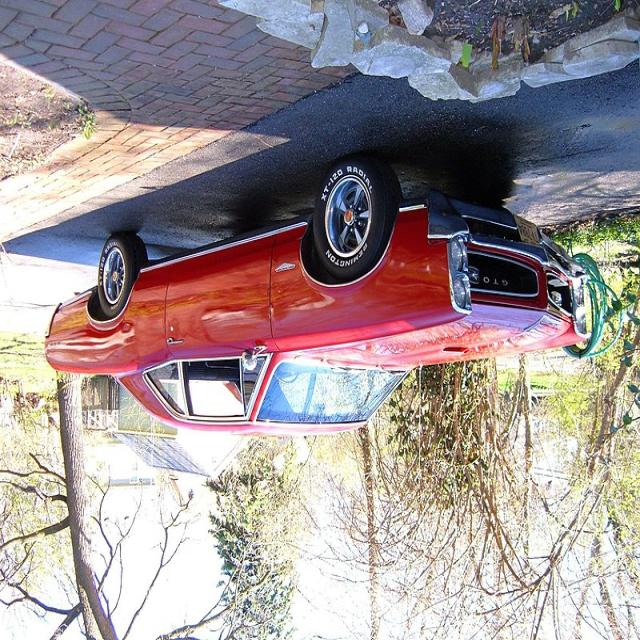car: (45, 148, 585, 448)
